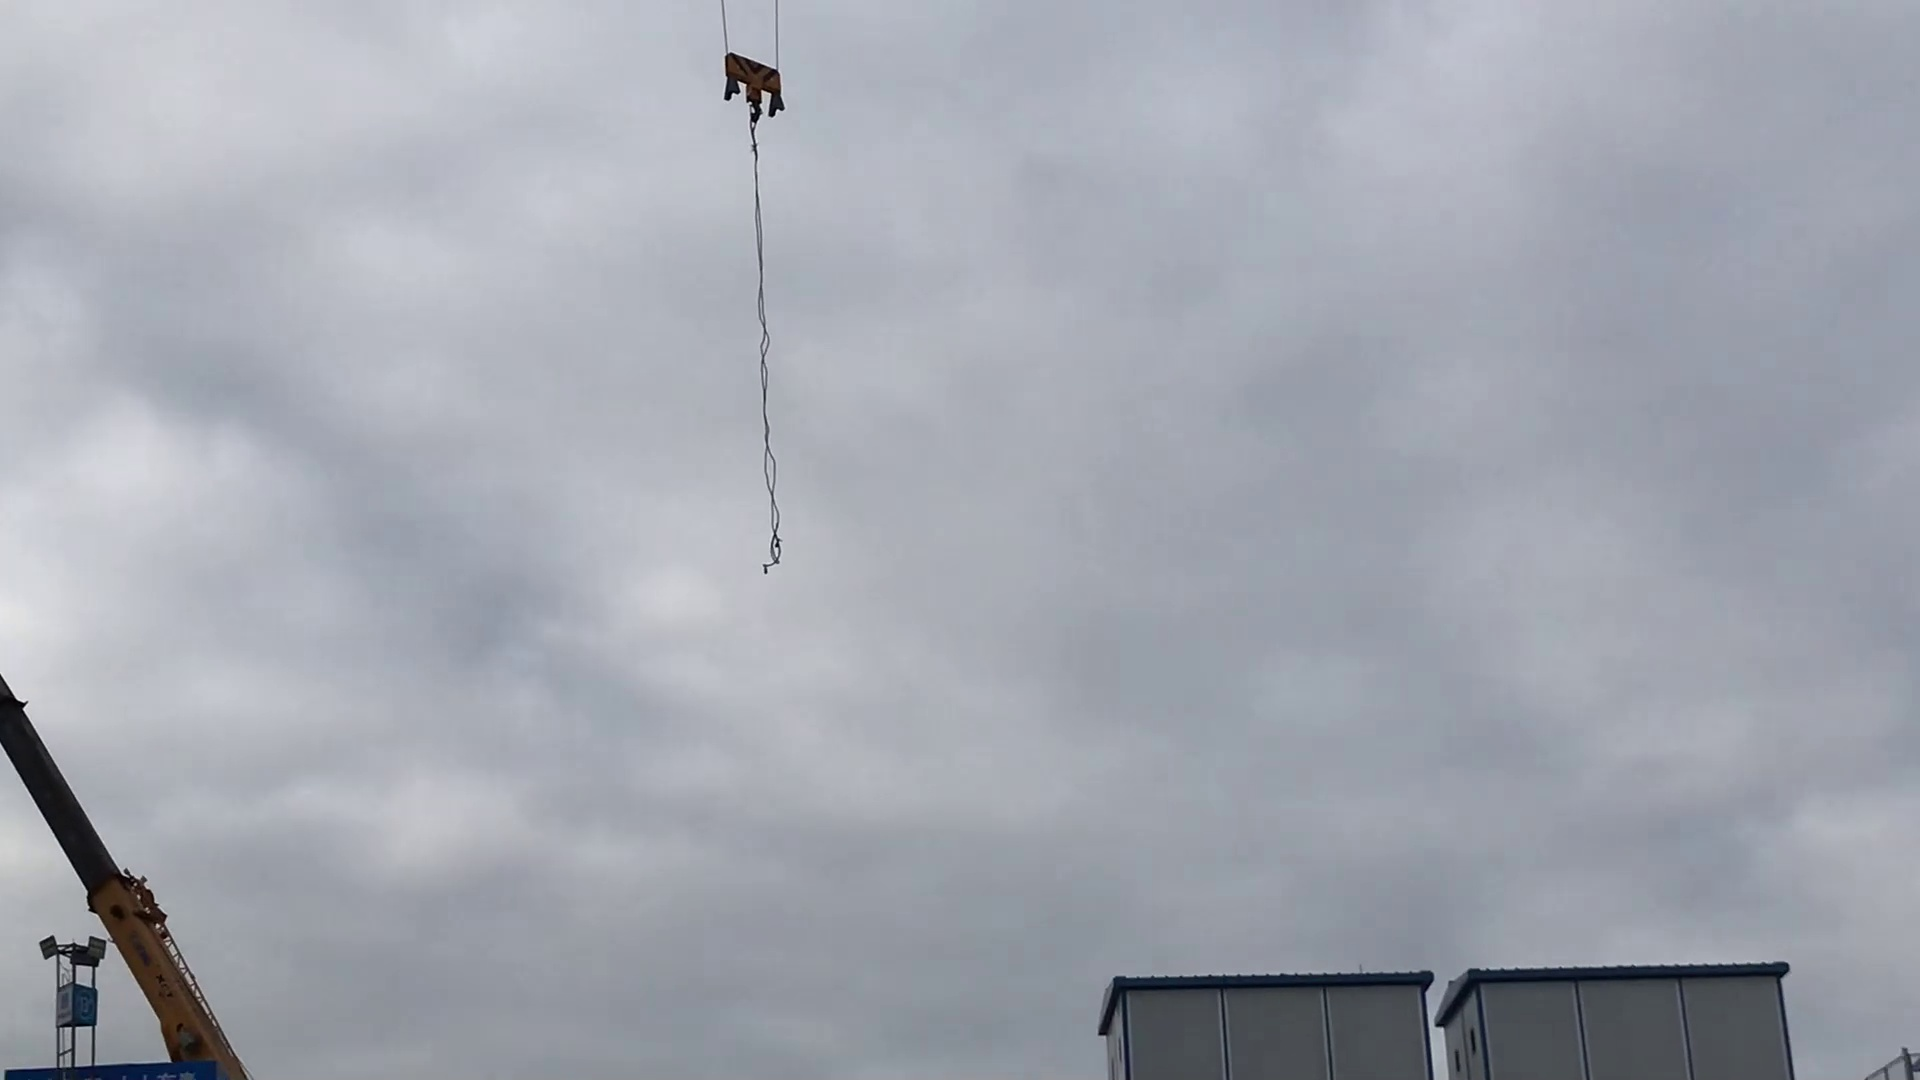hook: (713, 50, 794, 117)
